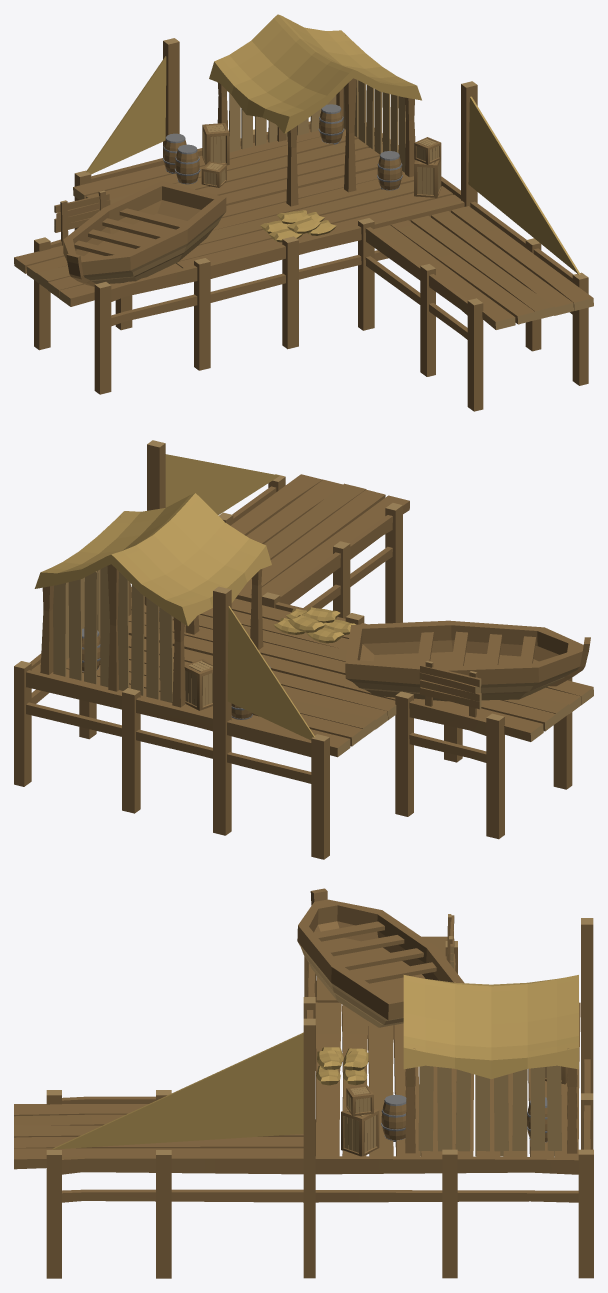
File: quaternius-real-time-strategy-port-first-age-level-2.glb
3 views of the same model, one above another, from view 1: azimuth 30°, elevation 25°; view 2: azimuth 150°, elevation 25°; view 3: azimuth 270°, elevation 25° (orthographic). The views are drawn at different scales.
Visible parts, largest first — view 1: Port_FirstAge_Level2; view 2: Port_FirstAge_Level2; view 3: Port_FirstAge_Level2.
Part boxes in pixels (left/top/right/bottom): Port_FirstAge_Level2: left=14, top=14, right=593, bottom=411; Port_FirstAge_Level2: left=14, top=440, right=593, bottom=859; Port_FirstAge_Level2: left=14, top=888, right=593, bottom=1278.
Bounding box in the file's own units: 1.84 × 0.9712 × 1.98.
